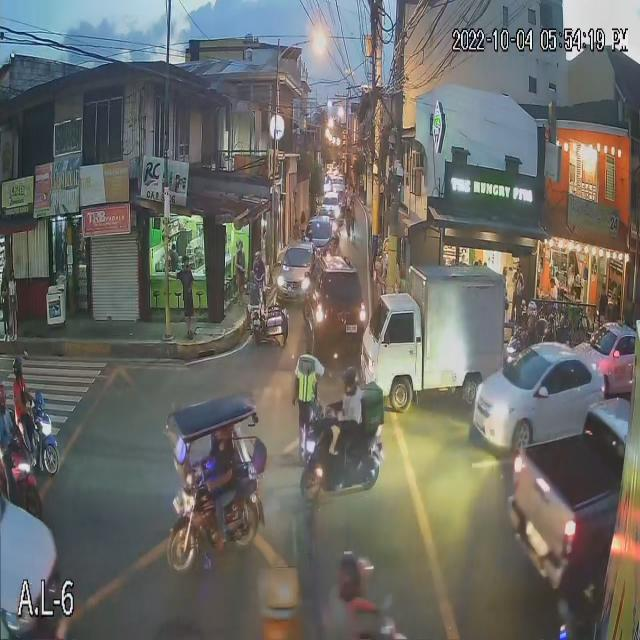helmet: (335, 549, 374, 602), (339, 366, 359, 393), (13, 356, 27, 377), (526, 300, 538, 320)
motorcycle: (299, 418, 384, 502), (0, 447, 45, 516), (31, 394, 62, 472)
rider: (334, 393, 364, 491), (13, 376, 42, 467), (324, 592, 378, 640), (0, 410, 16, 500)
